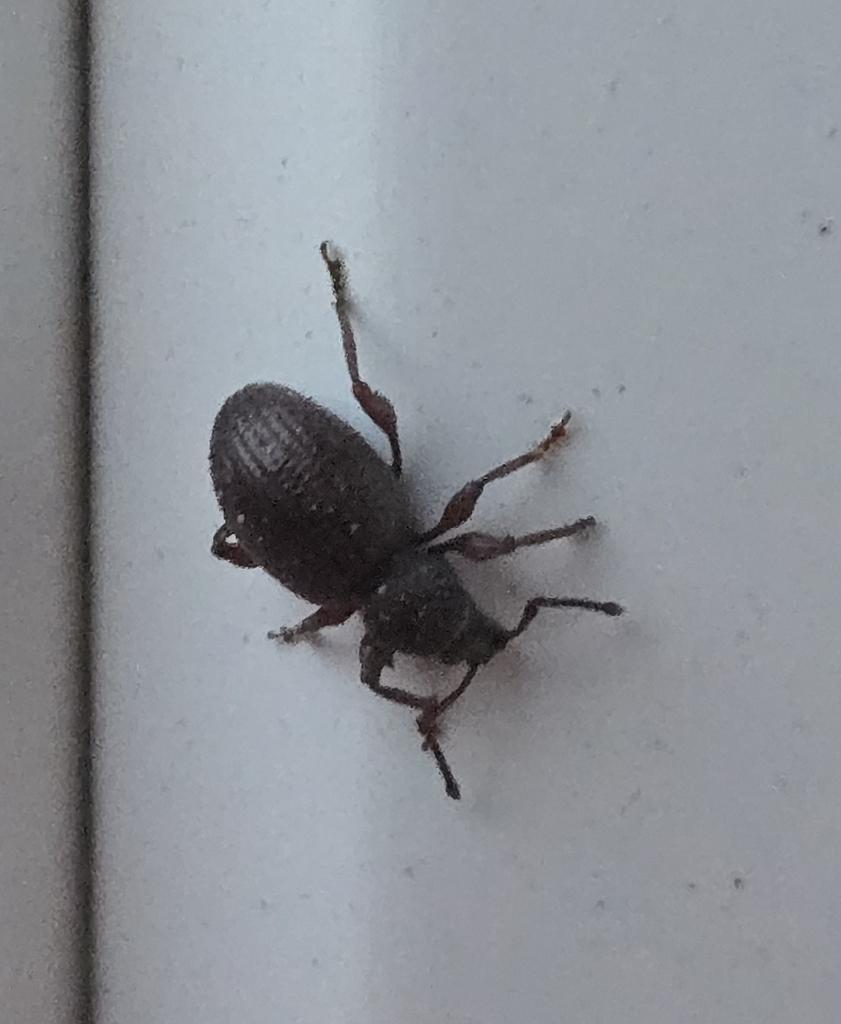weevils: (109, 204, 741, 850)
